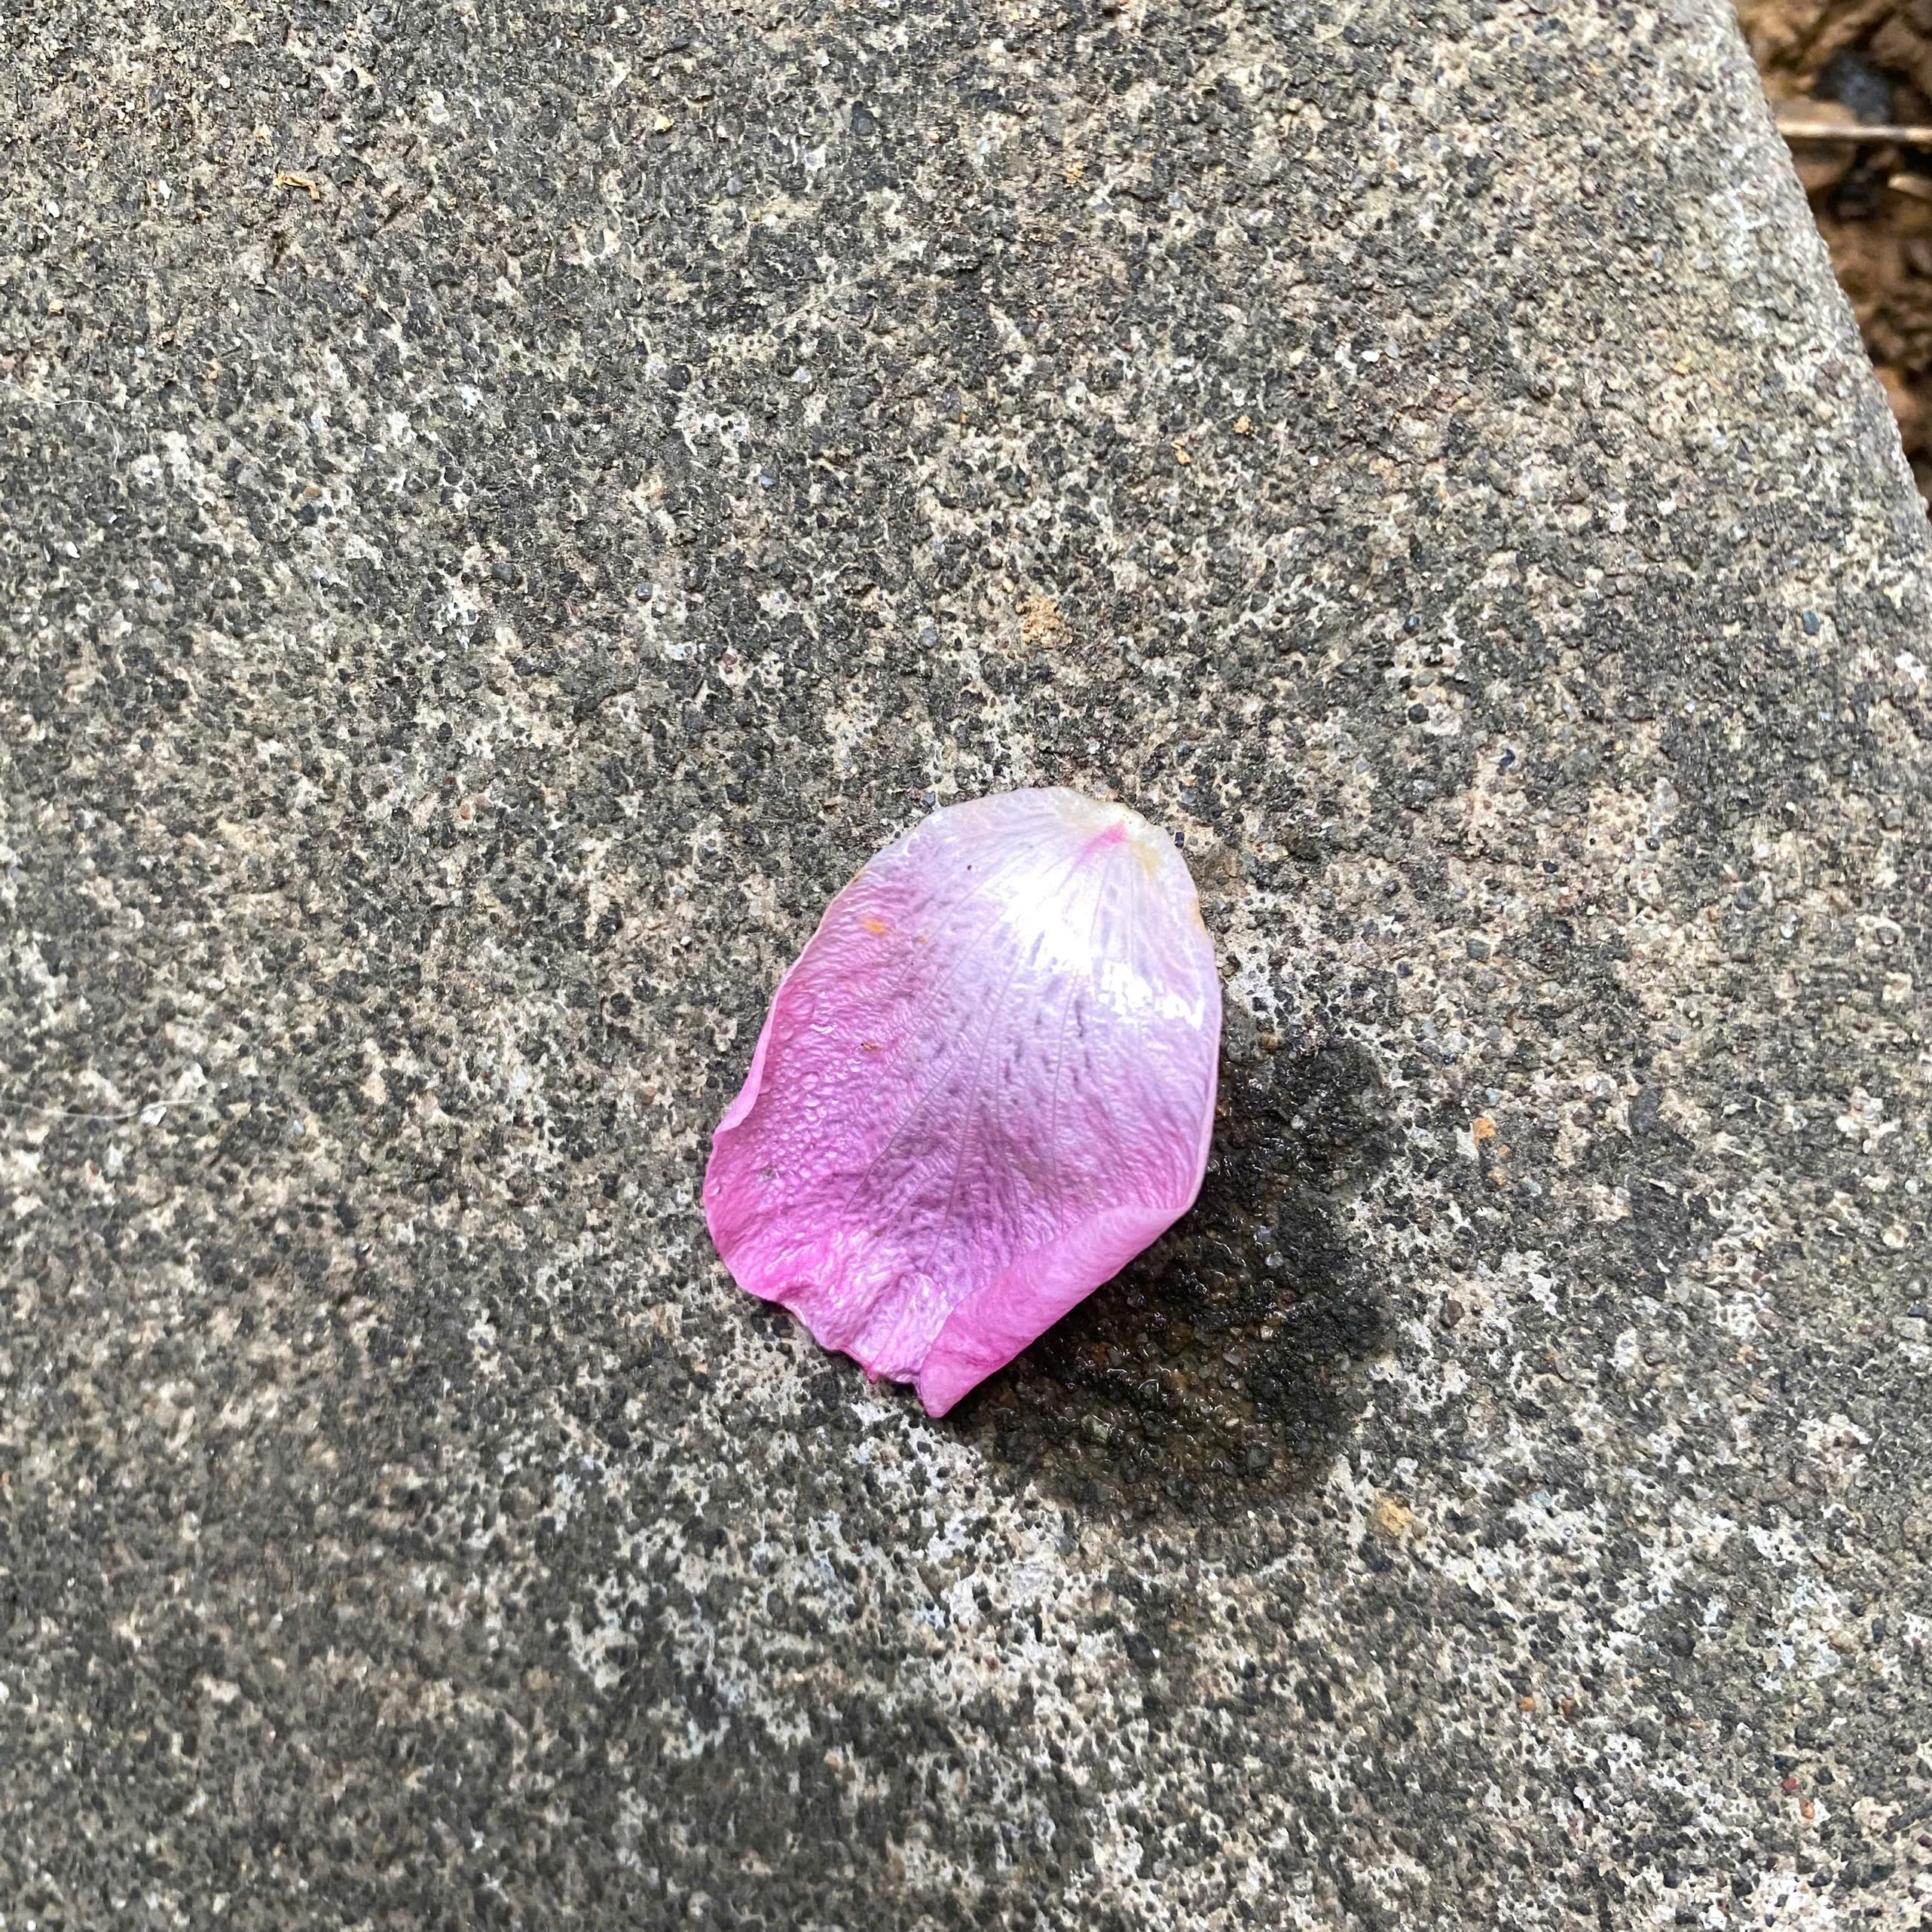hoa_hong_phan: (669, 718, 1334, 1435)
